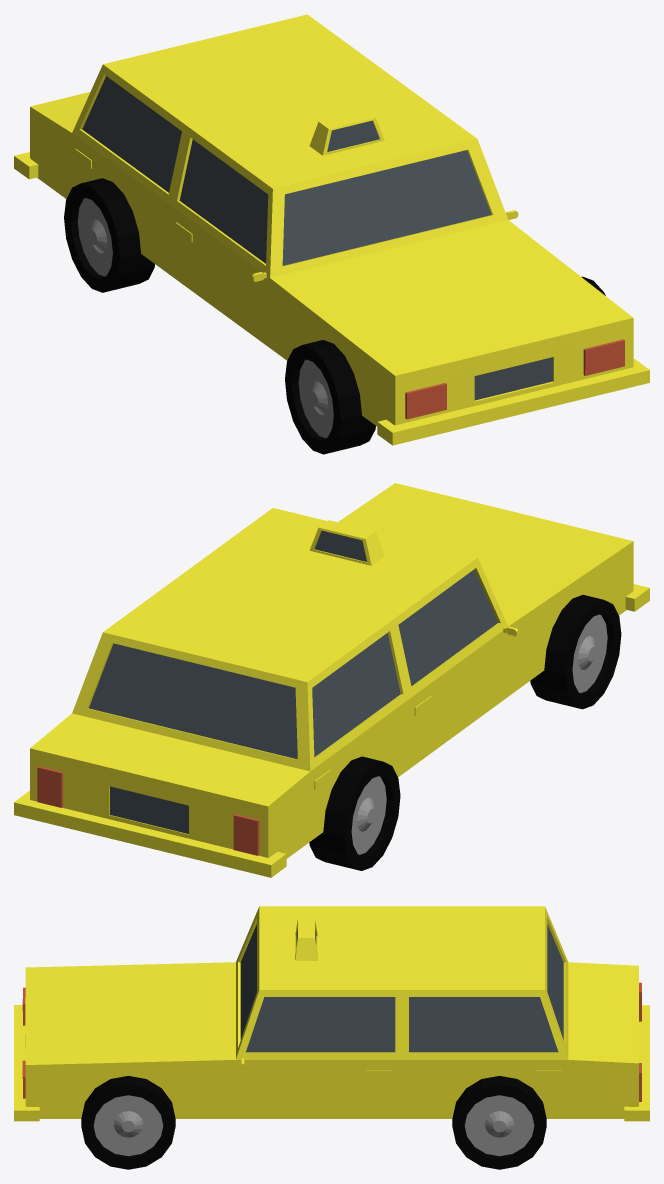
Rendered from taxi_Rig_Simple.fbx.
3 renders of one model, top to bottom at view 1: azimuth 30°, elevation 25°; view 2: azimuth 150°, elevation 25°; view 3: azimuth 270°, elevation 25°, orthographic. The views are drawn at different scales.
Visible parts, largest first — view 1: Body, Wheel_B_R, Wheel_F_R; view 2: Body, Wheel_B_R, Wheel_F_R; view 3: Body, Wheel_B_L, Wheel_F_L.
Boxes of the visible parts, x1,y1,x2,y2 form: Body: (14, 14, 649, 445); Wheel_B_R: (64, 178, 154, 292); Wheel_F_R: (285, 340, 375, 454); Body: (14, 483, 649, 877); Wheel_B_R: (309, 756, 400, 870); Wheel_F_R: (530, 594, 621, 709); Body: (14, 906, 649, 1121); Wheel_B_L: (452, 1076, 546, 1169); Wheel_F_L: (81, 1076, 175, 1169).
Bounding box in the file's own units: 396 × 296 × 925.
